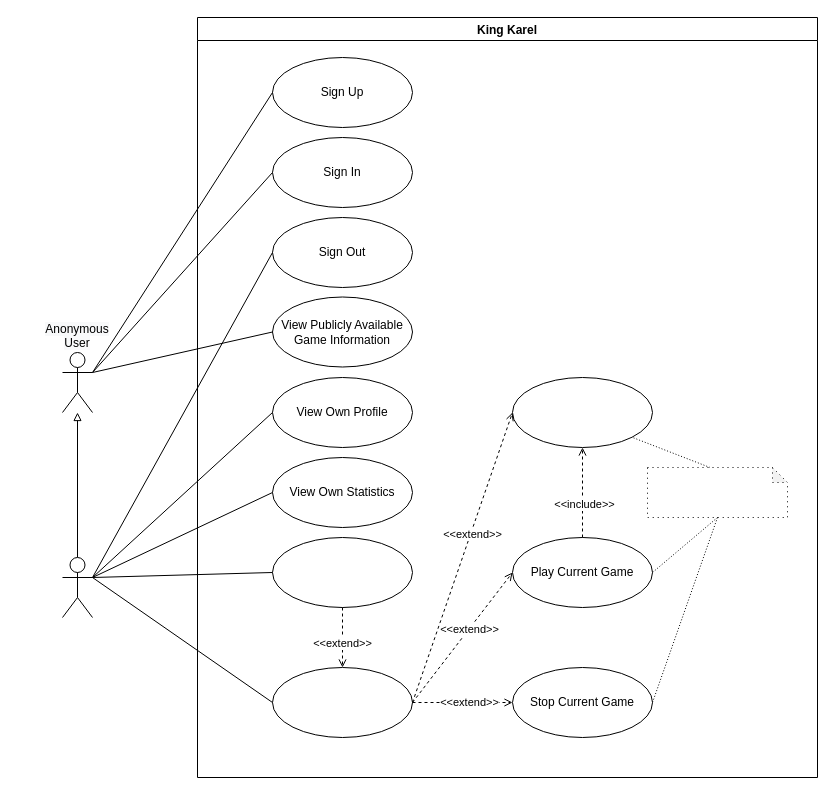
Image size: 835x795. Some labels were removed from this diagram. Each missing label, with the box of its shape:
<<precondition>> The used Mission is a Game Mission.: (646, 466, 788, 518)
Player: (62, 556, 92, 618)
Save Current Game: (512, 376, 652, 448)
Use Missions: (272, 666, 412, 738)
View Courses: (272, 536, 412, 608)
